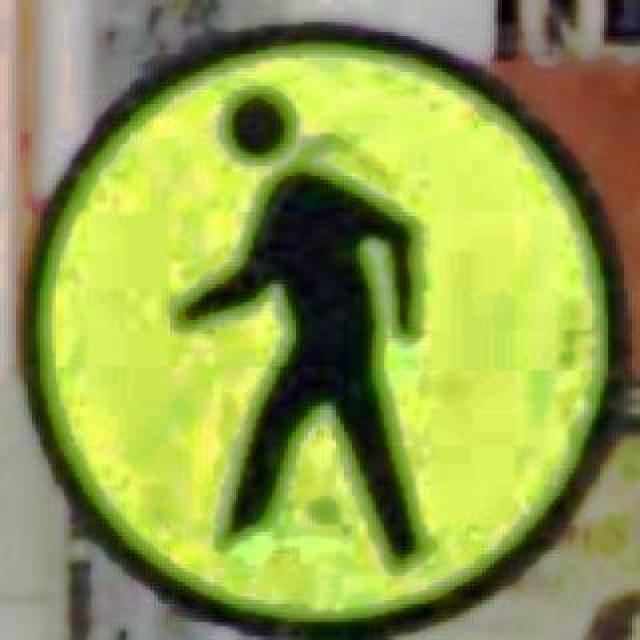pedestrian crossing: (12, 18, 624, 636)
